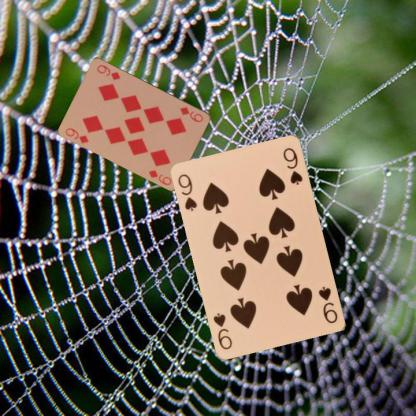9d: (178, 104, 204, 124), (63, 126, 90, 144)
9s: (316, 284, 339, 324), (176, 172, 198, 212)
